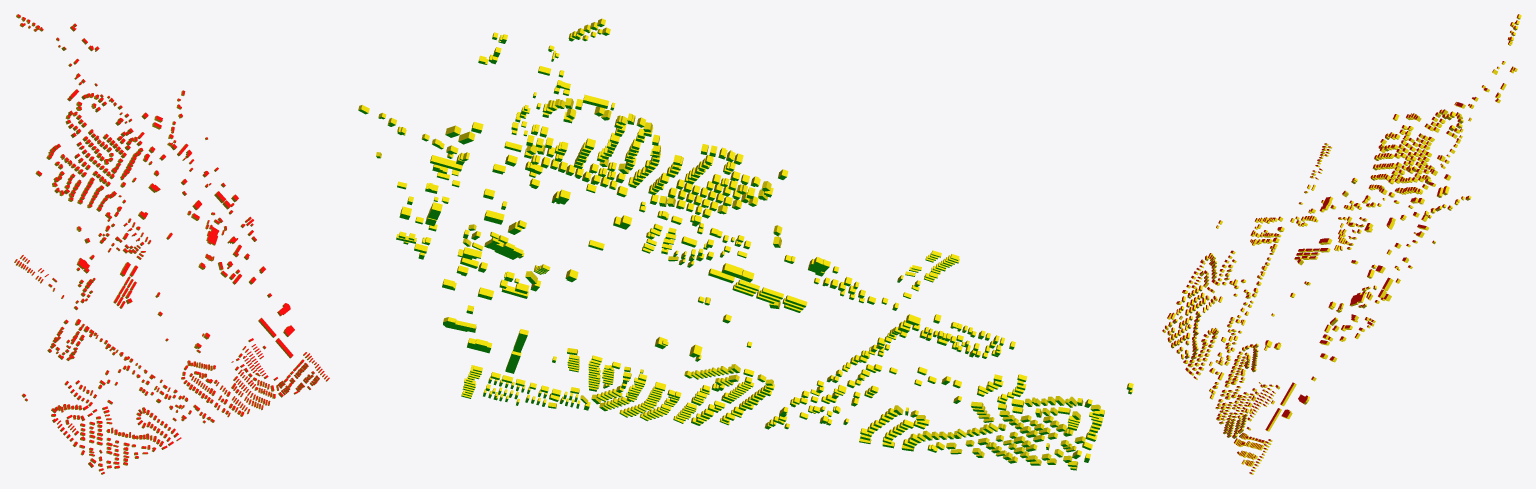
3 renders of one model, left to right at view 1: azimuth 30°, elevation 25°; view 2: azimuth 150°, elevation 25°; view 3: azimuth 270°, elevation 25°, orthographic. The views are drawn at different scales.
Visible parts, largest first — view 1: mesh; view 2: mesh; view 3: mesh.
Boxes of the visible parts, left/top/right/bottom form: mesh: left=14, top=14, right=329, bottom=474; mesh: left=358, top=18, right=1133, bottom=470; mesh: left=1162, top=14, right=1521, bottom=474.
Bounding box in the file's own units: 1583 × 1531 × 1383.
